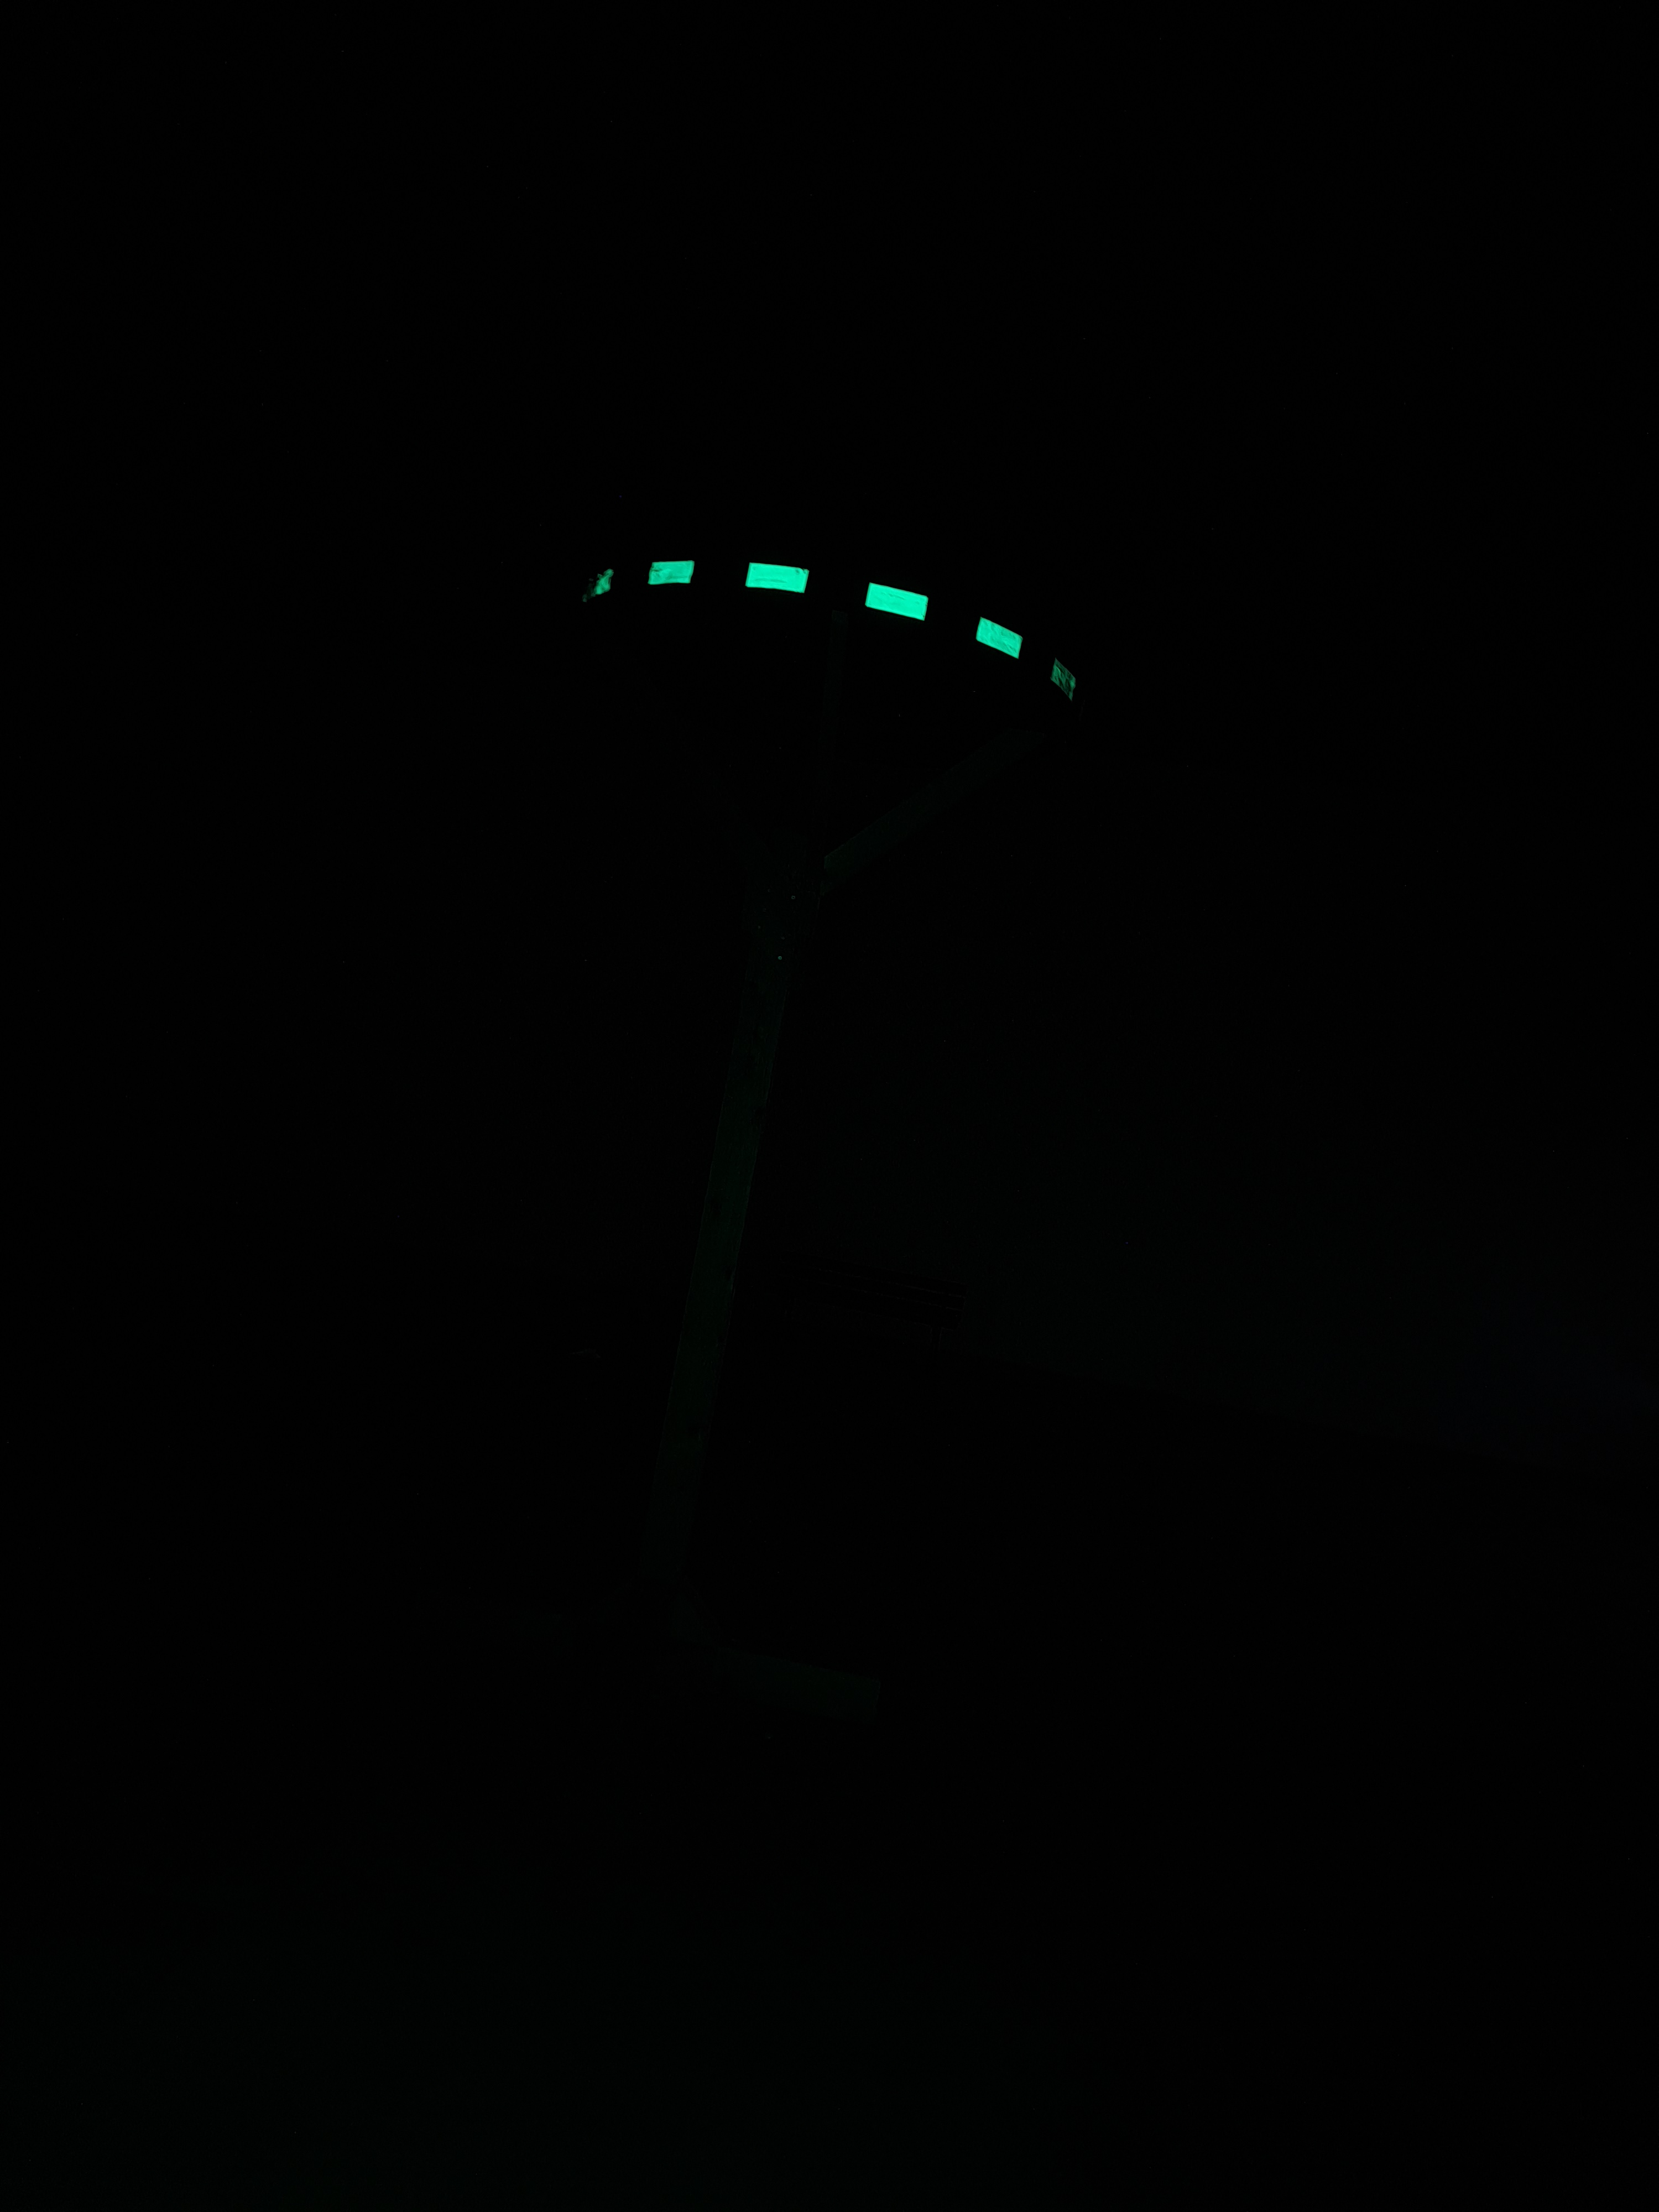hoop: (573, 549, 1084, 716)
